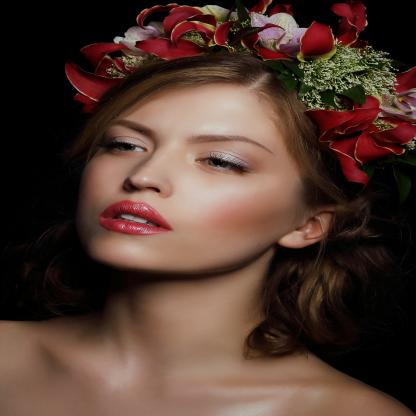Eye: (193, 151, 260, 177), (101, 136, 150, 156)
Mouth: (97, 199, 175, 237)
Nose: (123, 150, 176, 199)
